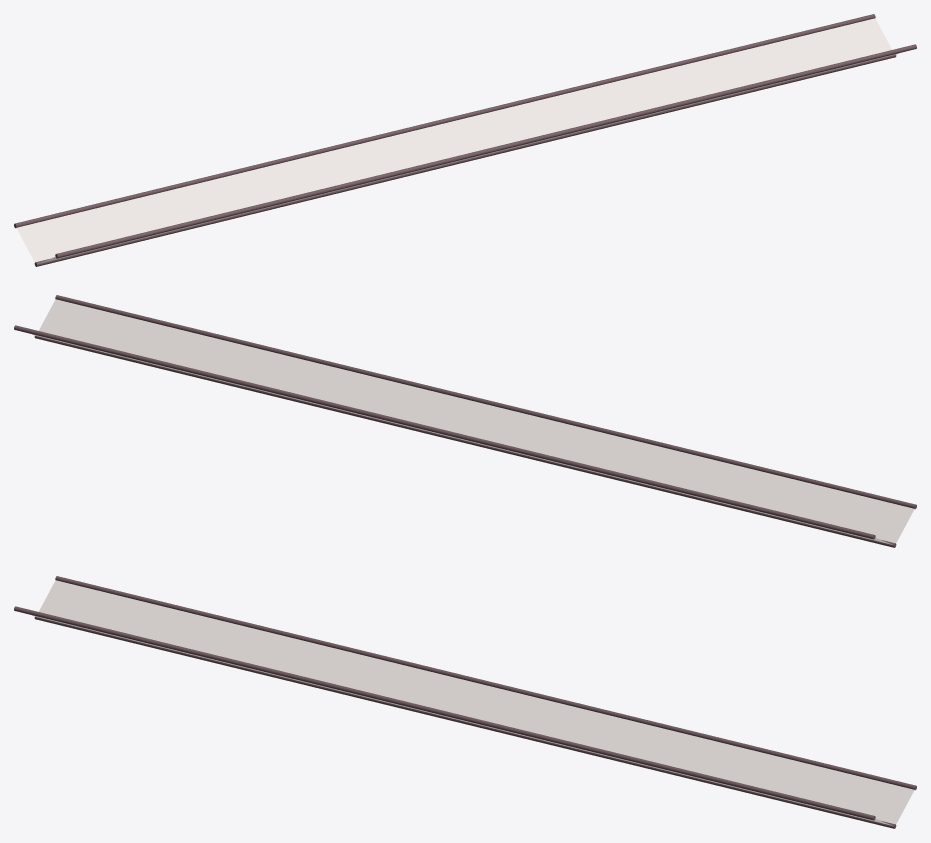
Rendered from paper-chute.glb.
3 views of the same model, one above another, from view 1: azimuth 30°, elevation 25°; view 2: azimuth 150°, elevation 25°; view 3: azimuth 330°, elevation 25° (orthographic).
Parts seen in each view (by area): view 1: paper-chute part 1, paper-chute part 5, paper-chute part 2, paper-chute part 4, paper-chute part 3; view 2: paper-chute part 3, paper-chute part 2, paper-chute part 5, paper-chute part 4, paper-chute part 1; view 3: paper-chute part 1, paper-chute part 5, paper-chute part 2, paper-chute part 4, paper-chute part 3.
Boxes of the visible parts, x1,y1,x2,y2 form: paper-chute part 1: (16, 18, 891, 262); paper-chute part 5: (55, 44, 916, 258); paper-chute part 2: (14, 14, 875, 228); paper-chute part 4: (34, 54, 896, 266); paper-chute part 3: (38, 53, 899, 263); paper-chute part 3: (39, 299, 914, 543); paper-chute part 2: (14, 325, 875, 539); paper-chute part 5: (55, 295, 916, 509); paper-chute part 4: (34, 335, 896, 547); paper-chute part 1: (31, 334, 892, 544); paper-chute part 1: (39, 580, 914, 824); paper-chute part 5: (14, 606, 875, 820); paper-chute part 2: (55, 576, 916, 790); paper-chute part 4: (34, 616, 896, 828); paper-chute part 3: (31, 615, 892, 825).
Size of the model in its own units: 0.4167 by 0.0129 by 0.0368.
